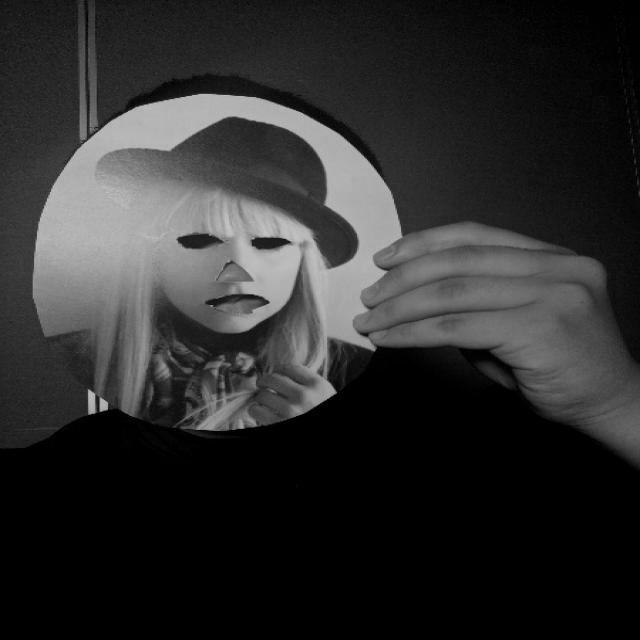real: (29, 92, 409, 436)
